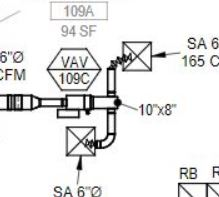VAV: (55, 89, 96, 120)
